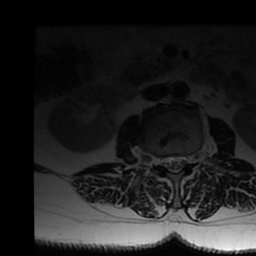CCS_normal: (170, 145, 178, 181)
LFS_normal: (186, 145, 194, 172)
LLS_normal: (177, 145, 186, 175)
RFS_normal: (153, 147, 162, 172)
RLS_normal: (161, 146, 170, 175)
